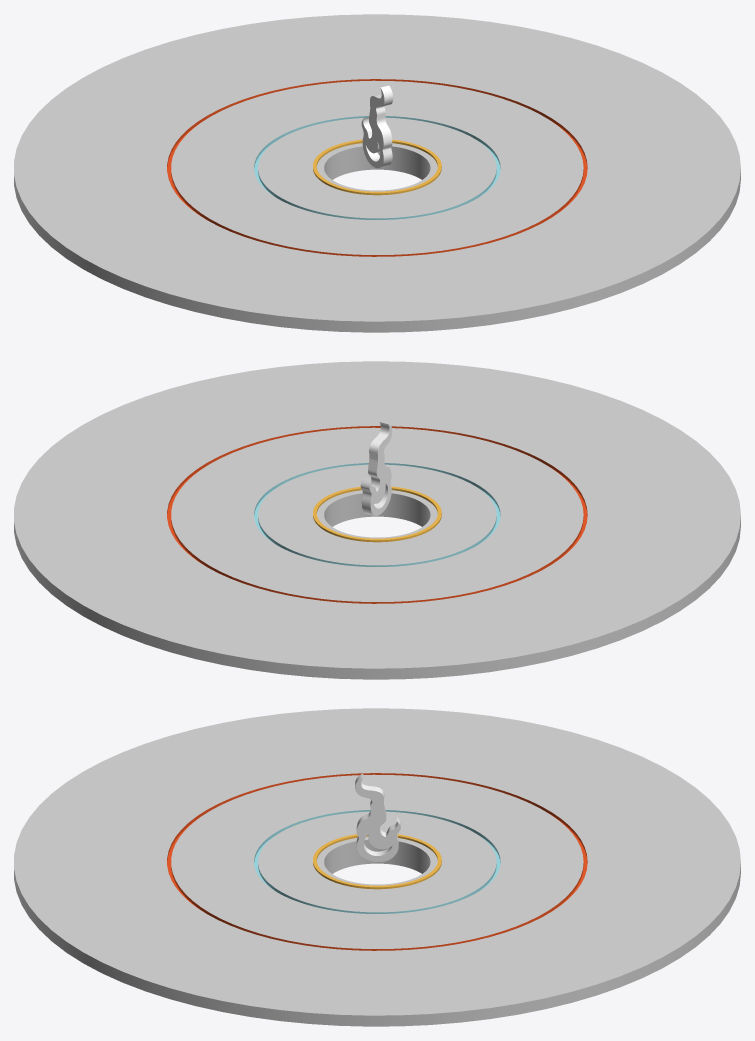
Rendered from test_2_updated.glb.
3 views of the same model, one above another, from view 1: azimuth 30°, elevation 25°; view 2: azimuth 150°, elevation 25°; view 3: azimuth 270°, elevation 25° (orthographic).
Parts seen in each view (by area): view 1: C8, C6, C4, C7, C1, Curve, C5, C3, C2; view 2: C8, C6, C4, C7, C1, Curve, C5, C3, C2; view 3: C8, C6, C4, C7, Curve, C1, C5, C3, C2.
Boxes of the visible parts, x1,y1,x2,y2 form: C8: [14, 14, 740, 332]; C6: [171, 80, 583, 254]; C4: [258, 117, 496, 218]; C7: [167, 79, 587, 256]; C1: [324, 146, 430, 179]; Curve: [361, 85, 393, 168]; C5: [254, 116, 500, 219]; C3: [313, 139, 441, 195]; C2: [317, 143, 437, 191]; C8: [14, 361, 740, 679]; C6: [171, 427, 583, 601]; C4: [258, 464, 496, 565]; C7: [167, 426, 587, 603]; C1: [324, 493, 430, 526]; Curve: [360, 422, 392, 515]; C5: [254, 463, 500, 566]; C3: [313, 486, 441, 542]; C2: [317, 490, 437, 538]; C8: [14, 708, 740, 1026]; C6: [171, 774, 583, 948]; C4: [258, 811, 496, 912]; C7: [167, 773, 587, 950]; Curve: [355, 773, 400, 862]; C1: [324, 840, 430, 873]; C5: [254, 810, 500, 913]; C3: [313, 834, 441, 889]; C2: [317, 836, 437, 885].
Bounding box in the file's own units: 12.32 × 2.07 × 12.31.
